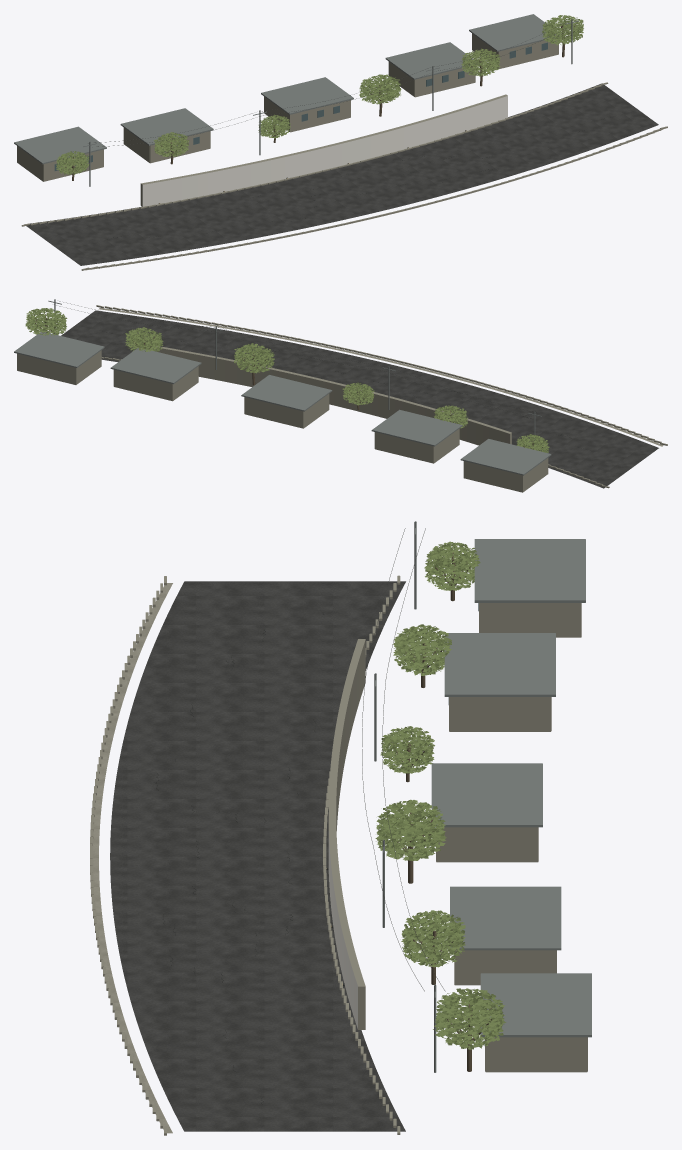
Rendered from base-long.glb.
The picture shows the model from 3 angles, top to bottom: view 1: azimuth 30°, elevation 25°; view 2: azimuth 150°, elevation 25°; view 3: azimuth 270°, elevation 25°; orthographic projection. The views are drawn at different scales.
Parts seen in each view (by area): view 1: long_asphalt, long_concrete, long_roof, long_stone_carpet, long_leaves, long_window, long_wire, long_bark; view 2: long_asphalt, long_concrete, long_roof, long_leaves, long_wire; view 3: long_asphalt, long_roof, long_concrete, long_leaves, long_stone_carpet, long_bark, long_wire.
Boxes of the visible parts, box(x1,y1,x2,y2) form: long_asphalt: box(24, 83, 658, 265); long_concrete: box(17, 33, 667, 270); long_roof: box(14, 14, 578, 186); long_stone_carpet: box(142, 96, 507, 206); long_leaves: box(56, 15, 583, 174); long_window: box(54, 42, 547, 170); long_wire: box(88, 21, 572, 146); long_bark: box(63, 24, 576, 180); long_asphalt: box(61, 310, 658, 488); long_concrete: box(17, 305, 667, 492); long_roof: box(14, 299, 551, 475); long_leaves: box(25, 308, 549, 452); long_wire: box(55, 301, 536, 416); long_asphalt: box(110, 581, 405, 1131); long_roof: box(374, 521, 591, 1072); long_concrete: box(90, 575, 587, 1135); long_leaves: box(375, 541, 506, 1049); long_stone_carpet: box(328, 831, 357, 1028); long_bark: box(391, 552, 492, 1071); long_wire: box(362, 528, 445, 991).
Size of what is drawn, in the model's own units: 76.98 by 8.13 by 29.32.
10 materials, 3 textured.
